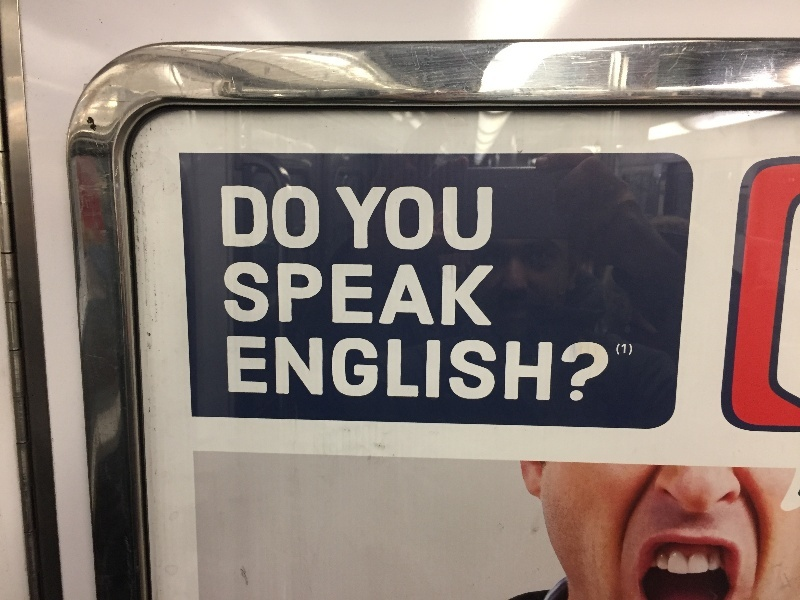text: (593, 341, 609, 402), (241, 336, 256, 401), (257, 336, 272, 401), (273, 336, 288, 401), (289, 336, 304, 401), (305, 336, 320, 401), (321, 336, 336, 401), (337, 336, 352, 401), (353, 336, 368, 401), (369, 336, 384, 401), (385, 336, 400, 401), (401, 336, 416, 401), (417, 336, 432, 401), (433, 336, 448, 401), (449, 336, 464, 401), (465, 336, 480, 401), (481, 336, 496, 401), (497, 336, 512, 401), (513, 336, 528, 401), (529, 336, 544, 401), (225, 185, 240, 249), (241, 185, 256, 249), (257, 185, 272, 249), (273, 185, 288, 249), (289, 185, 304, 249), (305, 185, 320, 249), (337, 187, 352, 251), (353, 187, 368, 251), (369, 187, 384, 251), (385, 187, 400, 251), (401, 187, 416, 251), (417, 187, 432, 251), (433, 187, 448, 251), (449, 187, 464, 251), (465, 187, 480, 251), (225, 262, 240, 326), (241, 262, 256, 326), (257, 262, 272, 326), (273, 262, 288, 326), (289, 262, 304, 326), (305, 262, 320, 326), (321, 262, 336, 326), (337, 262, 352, 326), (353, 262, 368, 326), (369, 262, 384, 326), (385, 262, 400, 326), (401, 262, 416, 326), (417, 262, 432, 326), (433, 262, 448, 326), (449, 262, 464, 326), (465, 262, 480, 326), (561, 341, 576, 402), (577, 341, 592, 402), (227, 336, 240, 401), (481, 187, 494, 251), (481, 262, 494, 326), (545, 336, 554, 401), (221, 185, 224, 249), (625, 343, 634, 356), (617, 343, 624, 356)
